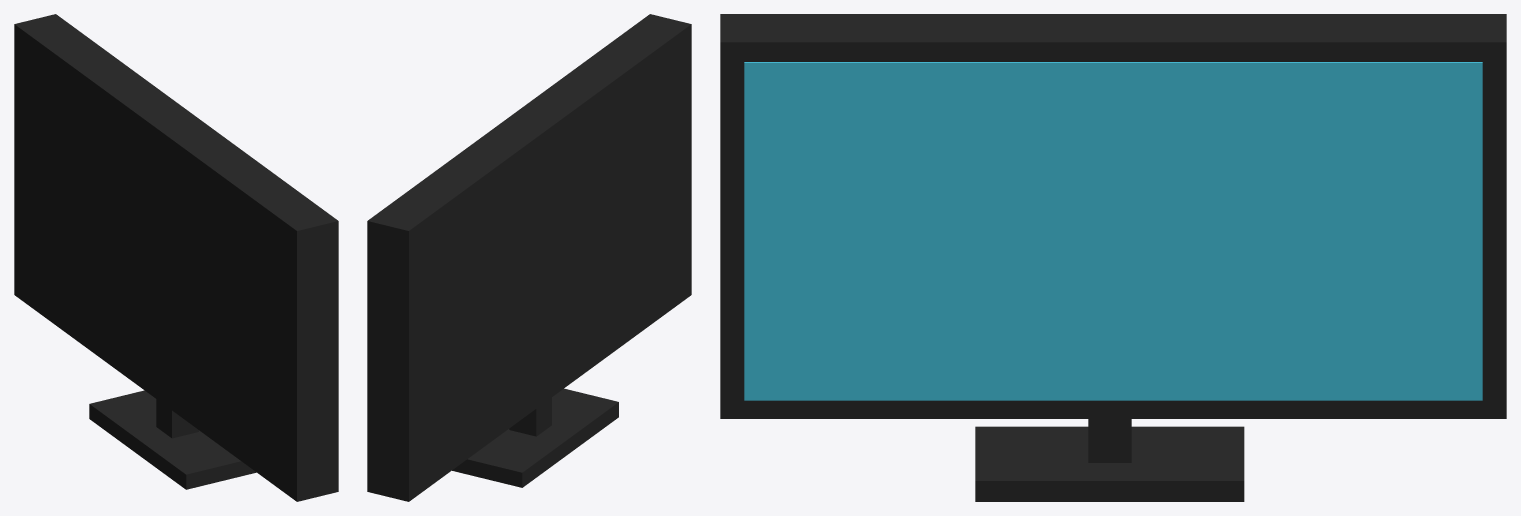
Rendered from monitor.fbx.
3 renders of one model, left to right at view 1: azimuth 30°, elevation 25°; view 2: azimuth 150°, elevation 25°; view 3: azimuth 270°, elevation 25°, orthographic. The views are drawn at different scales.
Visible parts, largest first — view 1: Cube.002; view 2: Cube.002; view 3: Cube.002.
Part boxes in pixels (bbox=[...]): Cube.002: bbox=[14, 14, 338, 501]; Cube.002: bbox=[367, 14, 691, 501]; Cube.002: bbox=[720, 14, 1506, 501].
Size of the model in its own units: 32.66 by 125 by 200.
